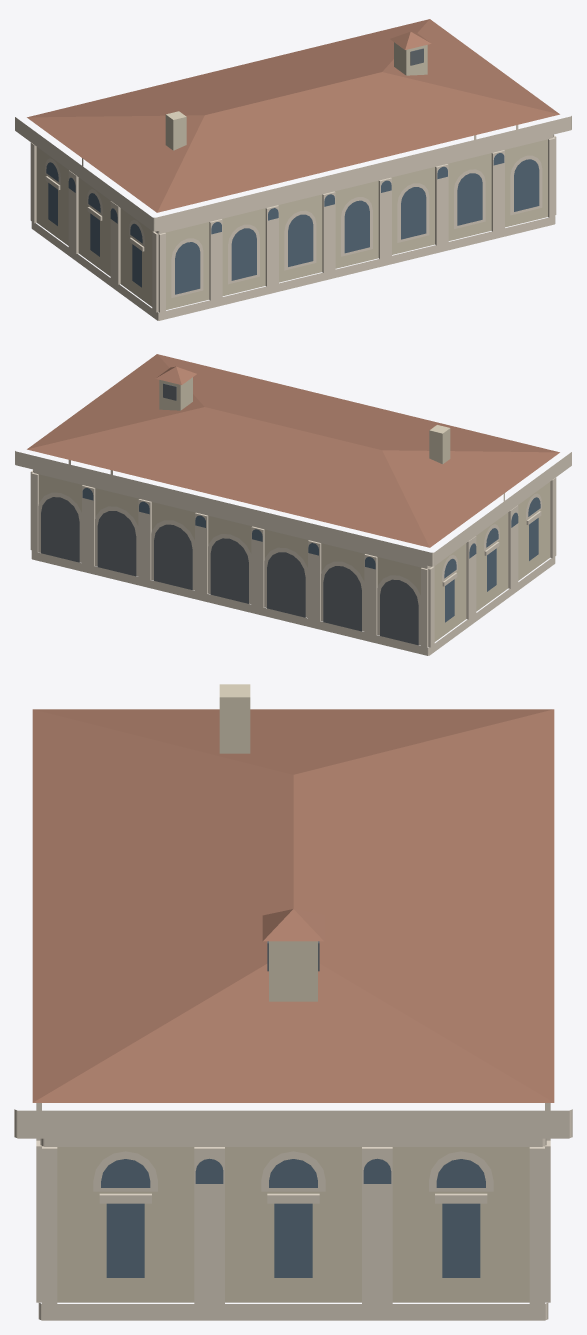
File: nyc-tennis-house.glb
The picture shows the model from 3 angles, top to bottom: view 1: azimuth 30°, elevation 25°; view 2: azimuth 150°, elevation 25°; view 3: azimuth 270°, elevation 25°; orthographic projection. The views are drawn at different scales.
Visible parts, largest first — view 1: Tennis House; view 2: Tennis House; view 3: Tennis House.
Part boxes in pixels (x1,y1,x2,y2): Tennis House: [15, 19, 571, 320]; Tennis House: [15, 354, 571, 655]; Tennis House: [14, 684, 572, 1320].
Bounding box in the file's own units: 31.48 × 11.9 × 18.16.
